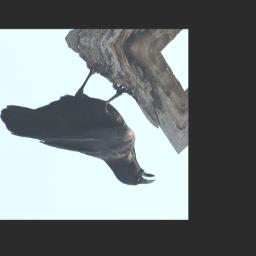Crow: (0, 52, 168, 190)
